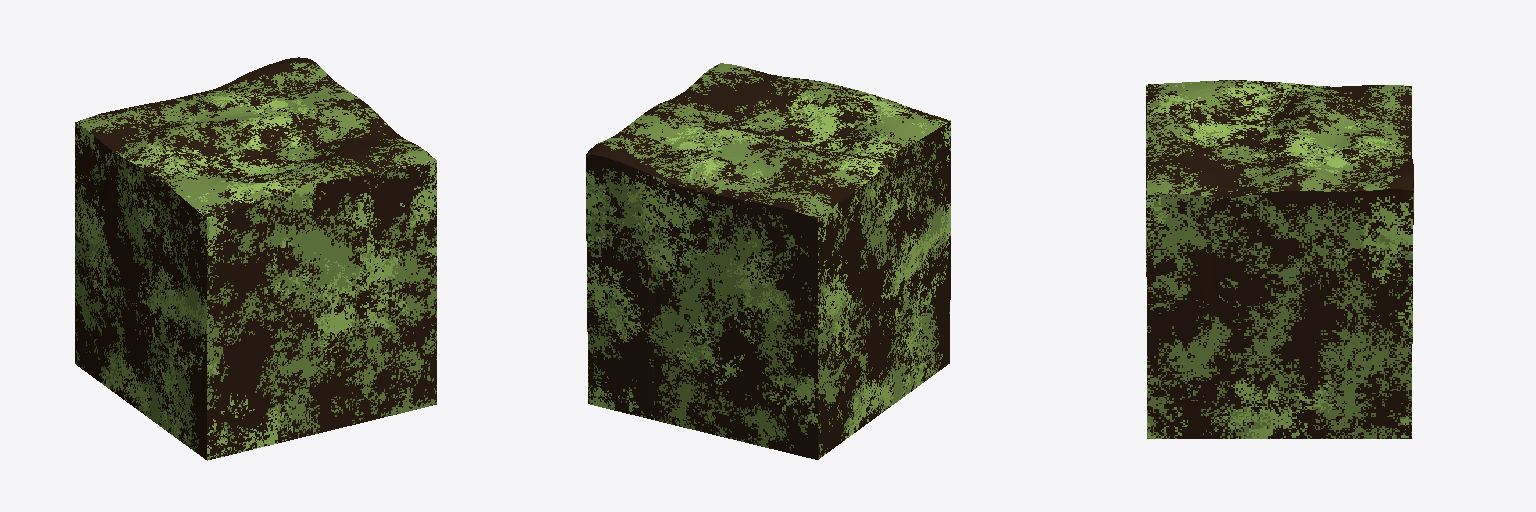
3 renders of one model, left to right at view 1: azimuth 30°, elevation 25°; view 2: azimuth 150°, elevation 25°; view 3: azimuth 270°, elevation 25°, orthographic.
Visible parts, largest first — view 1: 立方体_立方体.004; view 2: 立方体_立方体.004; view 3: 立方体_立方体.004.
Part boxes in pixels (left/top/right/bottom): 立方体_立方体.004: left=75, top=57, right=436, bottom=460; 立方体_立方体.004: left=586, top=63, right=950, bottom=459; 立方体_立方体.004: left=1146, top=80, right=1413, bottom=438.
Bounding box in the file's own units: 2.03 × 2.13 × 2.02.
Materials: 1 (1 with a texture image).